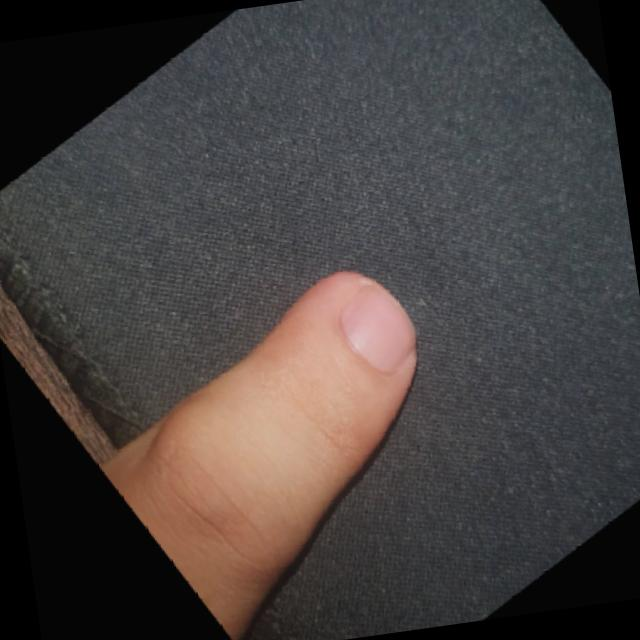Nail: (340, 283, 415, 373)
